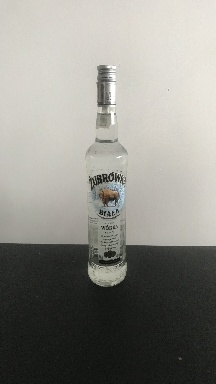butelka: (83, 60, 129, 289)
